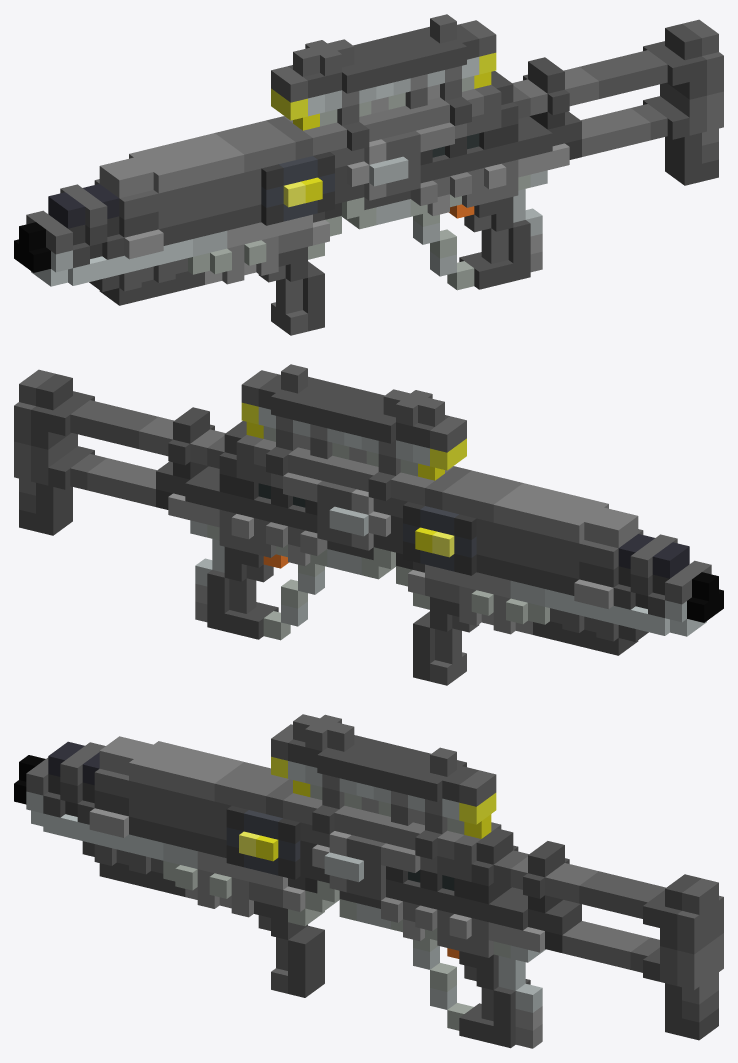
Rendered from Blaster_HRP_Singlewave.obj.
The picture shows the model from 3 angles, top to bottom: view 1: azimuth 30°, elevation 25°; view 2: azimuth 150°, elevation 25°; view 3: azimuth 330°, elevation 25°; orthographic projection.
Bounding box in the file's own units: 40 × 15 × 5.
